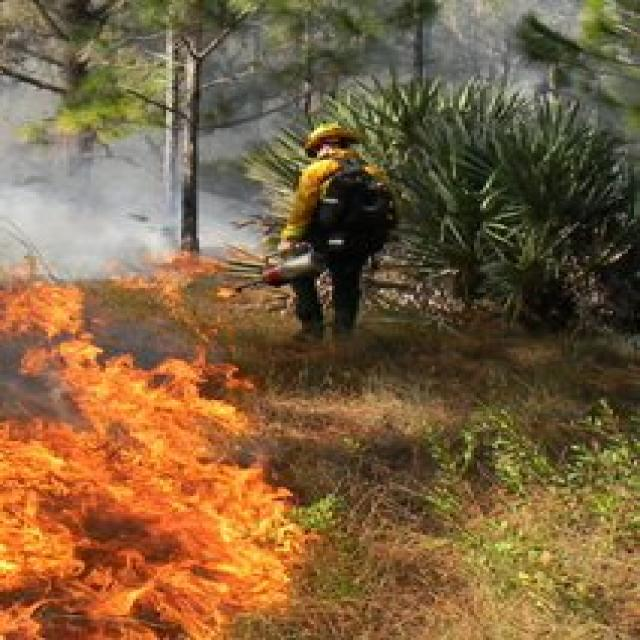Fire: (0, 281, 311, 640)
